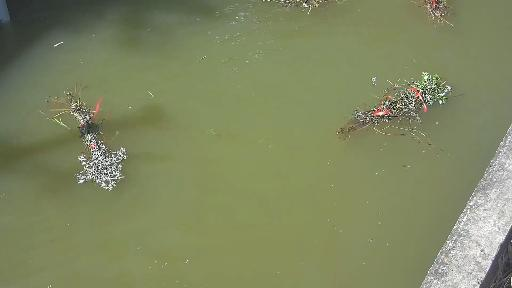twig: (341, 74, 476, 144), (51, 84, 133, 189), (397, 0, 462, 25)
